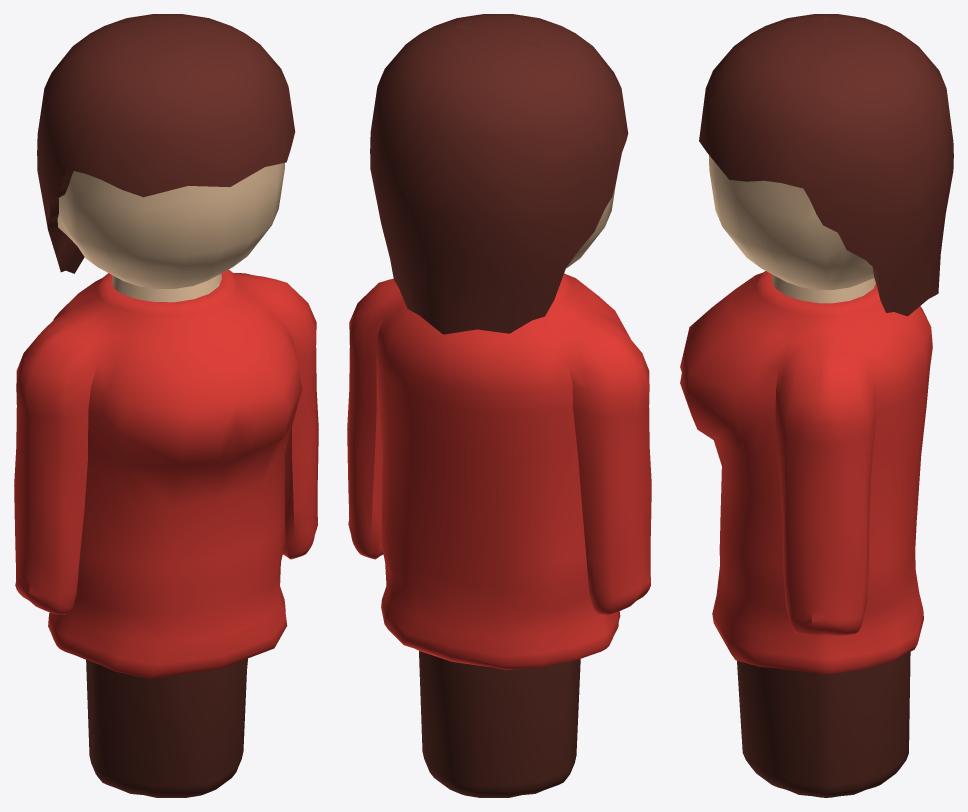
The model's file is female 2.fbx.
3 renders of one model, left to right at view 1: azimuth 30°, elevation 25°; view 2: azimuth 150°, elevation 25°; view 3: azimuth 270°, elevation 25°, orthographic.
Parts seen in each view (by area): view 1: female; view 2: female; view 3: female.
Boxes of the visible parts, x1=… form: female: x1=14, y1=14, x2=318, y2=797; female: x1=347, y1=14, x2=651, y2=797; female: x1=680, y1=14, x2=953, y2=797.
Bounding box in the file's own units: 0.1738 × 0.4227 × 0.1421.
